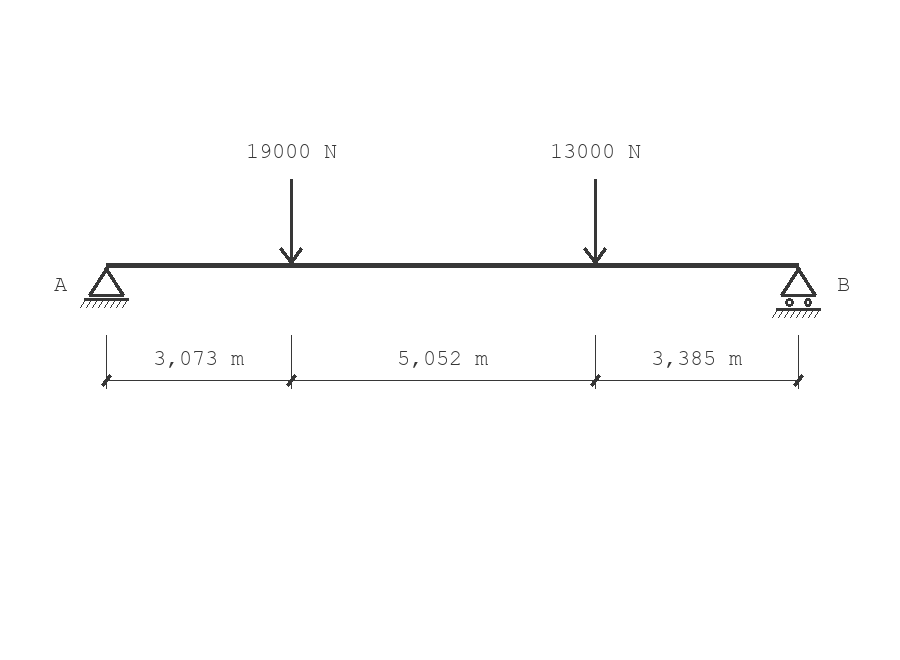pin_support: (80, 267, 129, 308)
point_load: (279, 179, 303, 264), (583, 179, 607, 264)
roller_support: (772, 267, 821, 318)
